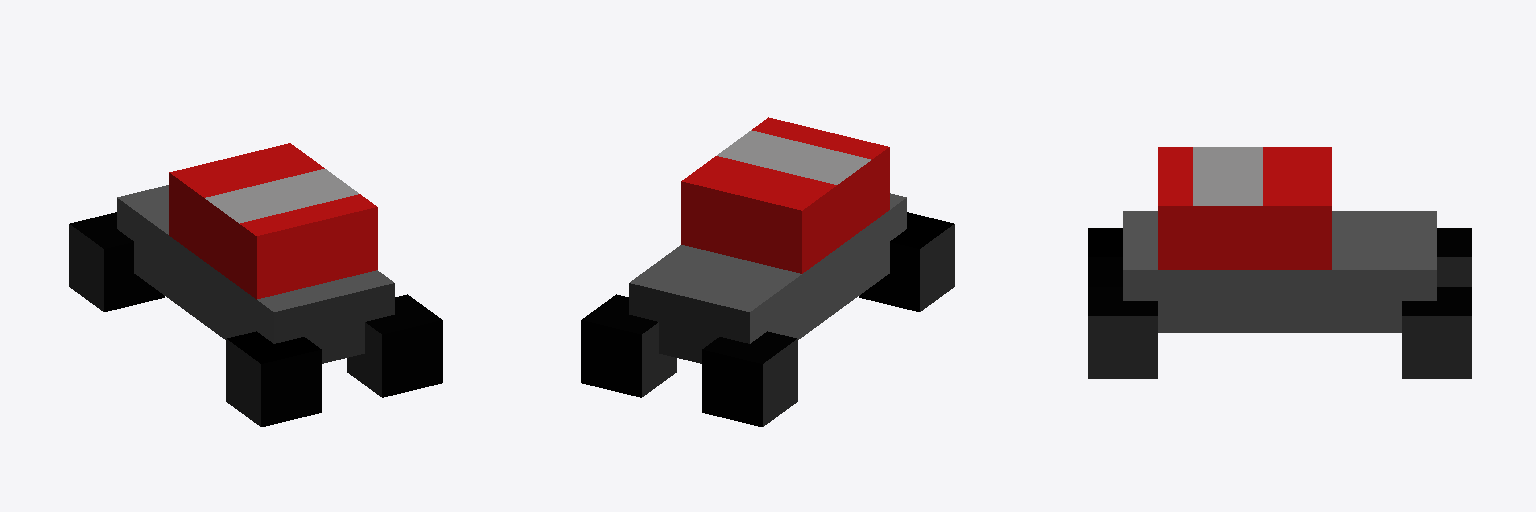
3 views of the same model, side by side, from view 1: azimuth 30°, elevation 25°; view 2: azimuth 150°, elevation 25°; view 3: azimuth 270°, elevation 25° (orthographic).
Visible parts, largest first — view 1: cube; view 2: cube; view 3: cube.
Part boxes in pixels (x1,y1,x2,y2): cube: (69, 143, 442, 426); cube: (581, 117, 954, 426); cube: (1088, 147, 1471, 378).
Size of the model in its own units: 0.375 by 0.3125 by 0.6875.
1 materials, 1 textured.